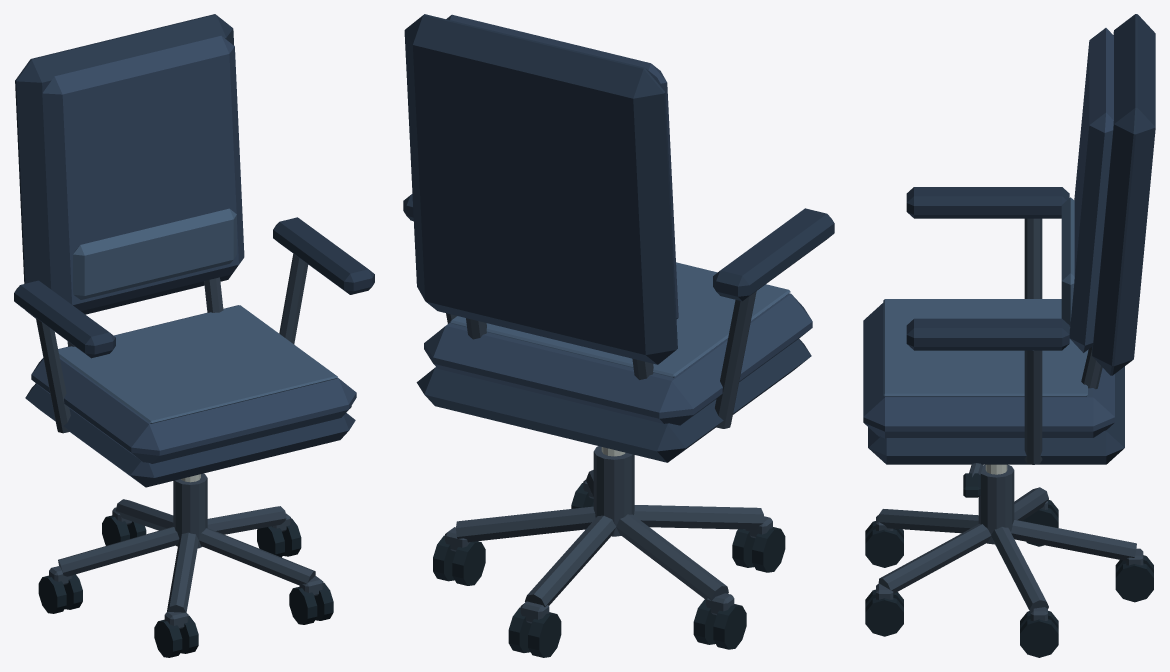
File: chair_task.glb
The picture shows the model from 3 angles, left to right: view 1: azimuth 30°, elevation 25°; view 2: azimuth 150°, elevation 25°; view 3: azimuth 270°, elevation 25°; orthographic projection. The views are drawn at different scales.
Parts seen in each view (by area): view 1: chair_task__navy, chair_task__navy_light, chair_task__navy_dark, chair_task__metal, chair_task__black; view 2: chair_task__navy_dark, chair_task__navy, chair_task__metal, chair_task__black, chair_task__navy_light; view 3: chair_task__navy_dark, chair_task__navy, chair_task__metal, chair_task__navy_light, chair_task__black.
Part boxes in pixels (left/top/right/bottom): chair_task__navy: left=31, top=35, right=356, bottom=463; chair_task__navy_light: left=58, top=208, right=337, bottom=423; chair_task__navy_dark: left=14, top=14, right=374, bottom=487; chair_task__metal: left=36, top=254, right=323, bottom=628; chair_task__black: left=38, top=406, right=351, bottom=657; chair_task__navy_dark: left=403, top=14, right=834, bottom=462; chair_task__navy: left=424, top=14, right=812, bottom=425; chair_task__metal: left=445, top=291, right=772, bottom=623; chair_task__black: left=433, top=483, right=785, bottom=657; chair_task__navy_light: left=450, top=262, right=790, bottom=377; chair_task__navy_dark: left=868, top=14, right=1155, bottom=464; chair_task__navy: left=863, top=28, right=1114, bottom=438; chair_task__metal: left=876, top=218, right=1143, bottom=620; chair_task__navy_light: left=883, top=197, right=1087, bottom=396; chair_task__black: left=865, top=473, right=1153, bottom=657.
Bounding box in the file's own units: 0.711 × 1.2 × 0.5924.
